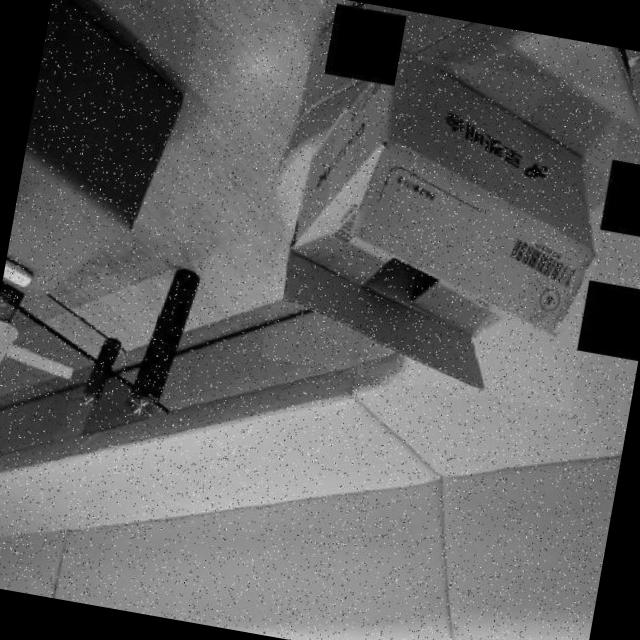box: (260, 38, 626, 412)
